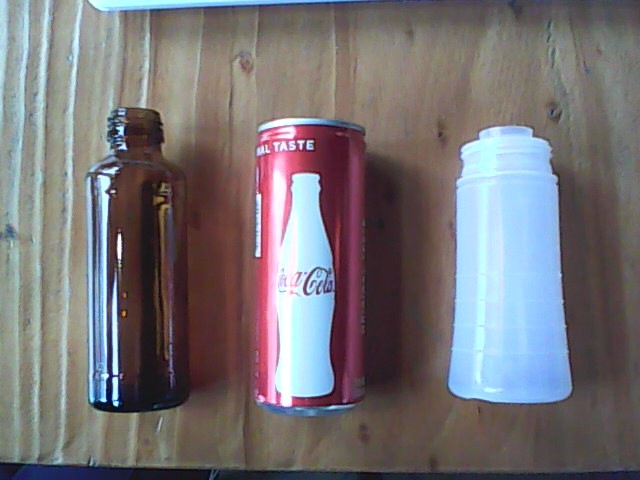Can: (247, 110, 374, 422)
Glass: (78, 101, 198, 417)
Plastic: (441, 119, 577, 411)
